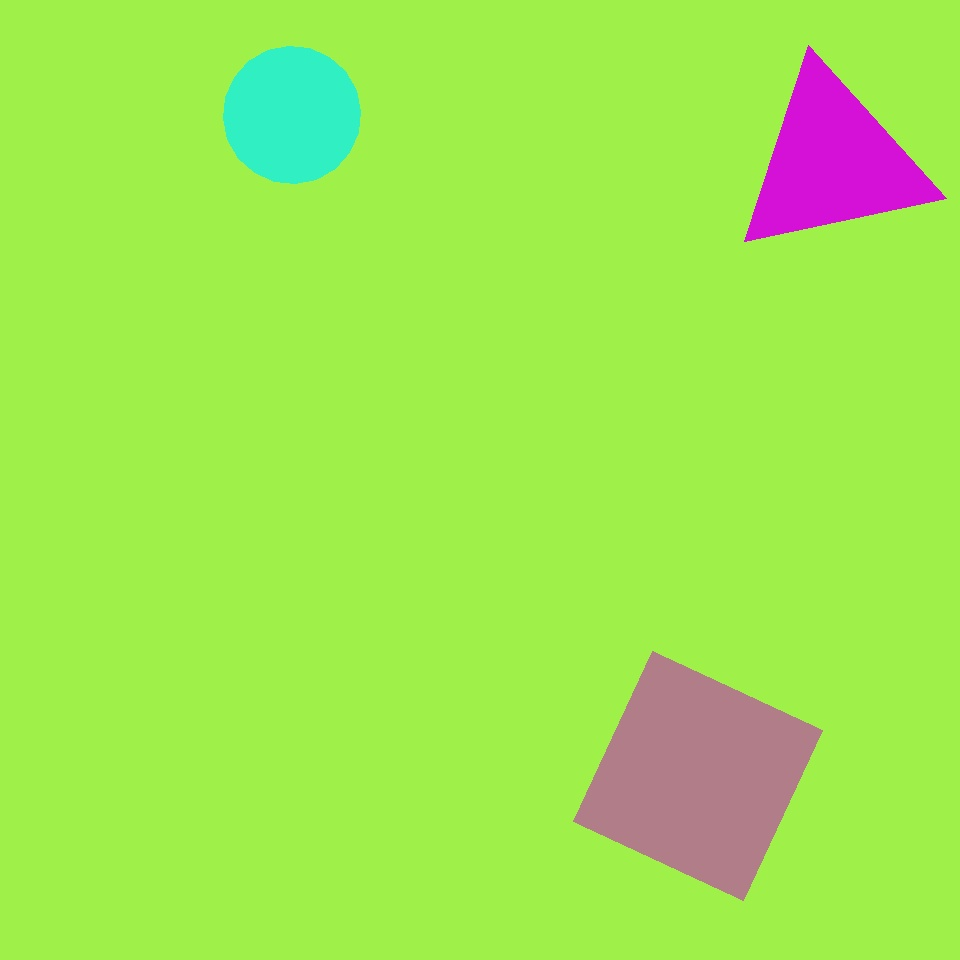circle: (732, 64, 934, 260)
square: (574, 652, 822, 900)
triangle: (223, 47, 360, 184)
